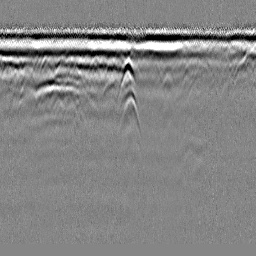cavity: (116, 57, 138, 97)
